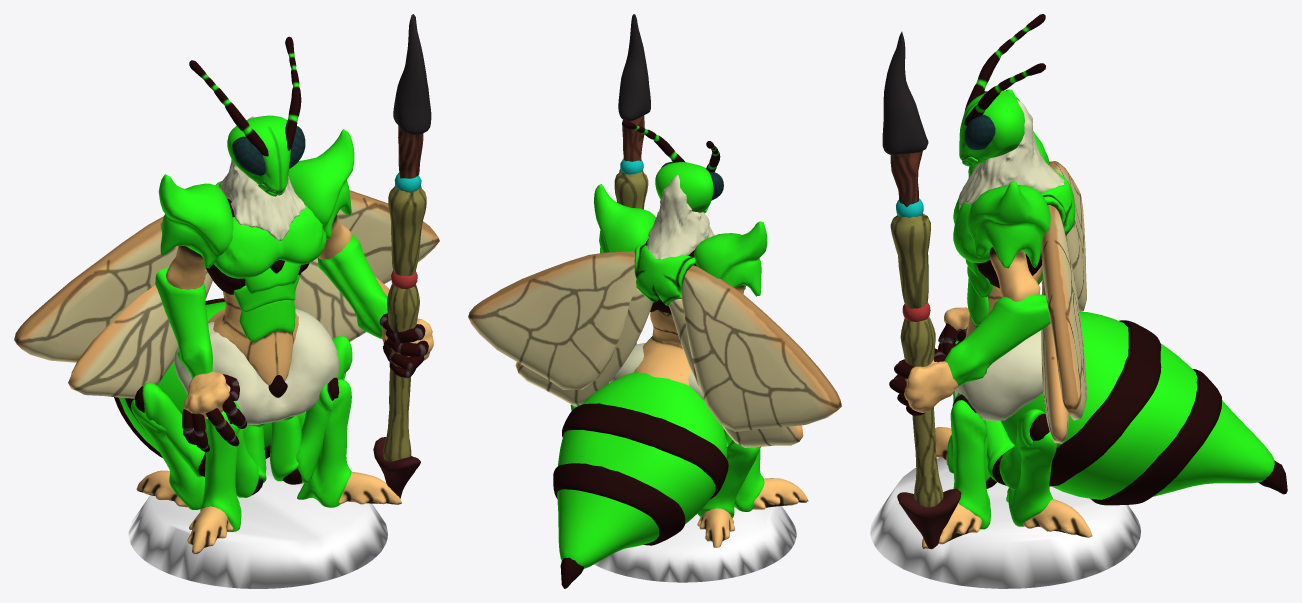
Rendered from Wasp_warrior_Rev02_Fbx_Rev01_Green.fbx.
3 renders of one model, left to right at view 1: azimuth 30°, elevation 25°; view 2: azimuth 150°, elevation 25°; view 3: azimuth 270°, elevation 25°, orthographic. The views are drawn at different scales.
Parts seen in each view (by area): view 1: Merged_WW_Spear_Low; view 2: Merged_WW_Spear_Low; view 3: Merged_WW_Spear_Low.
Boxes of the visible parts, left/top/right/bottom form: Merged_WW_Spear_Low: left=14, top=14, right=439, bottom=588; Merged_WW_Spear_Low: left=468, top=14, right=841, bottom=588; Merged_WW_Spear_Low: left=870, top=14, right=1287, bottom=588.
Size of the model in its own units: 32.01 by 38.37 by 26.21.
Materials: 1 (1 with a texture image).
